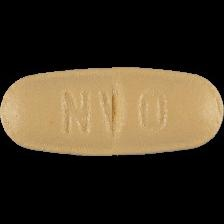49999-543: (0, 0, 224, 224)
